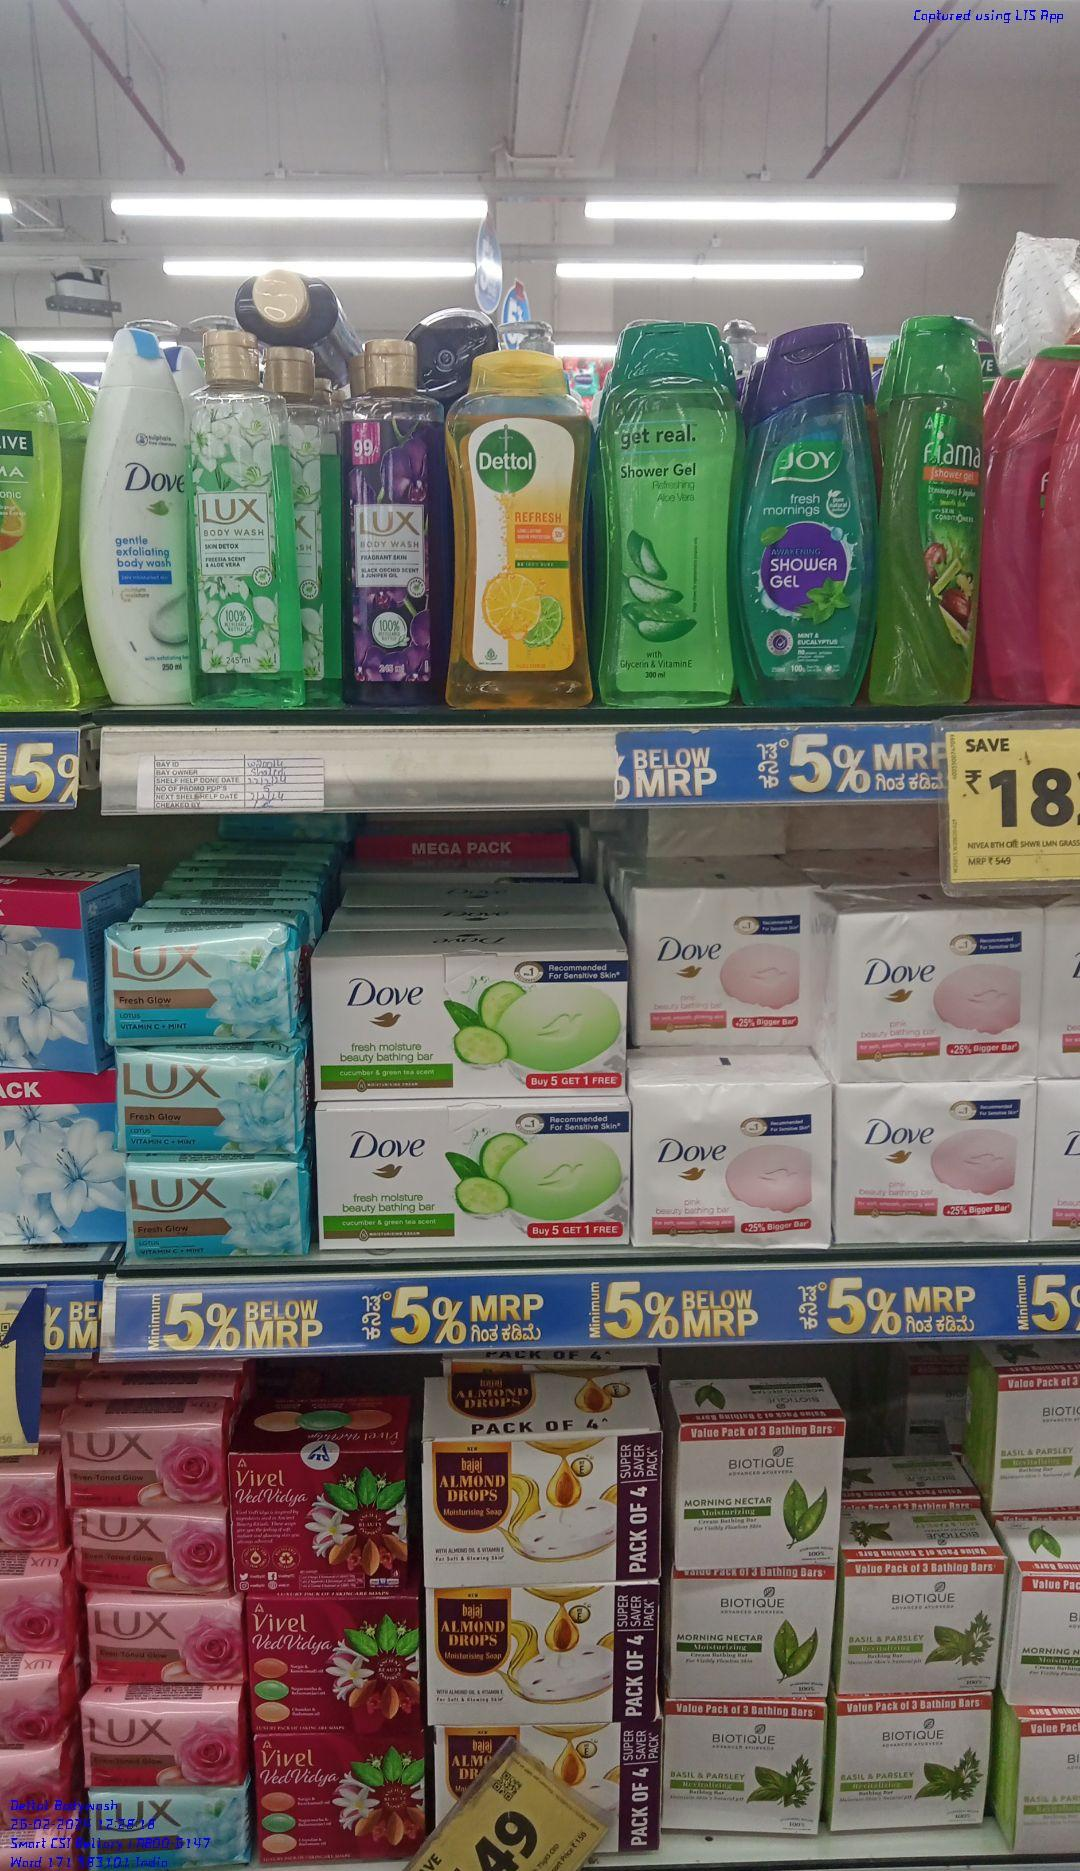Dettol_Bodywash_Refresh: (450, 346, 591, 716)
Dove_Gentle_Exfoliating_Body_Wash_250ML: (77, 316, 195, 709)
Fiama_Shower_Gel_Lemongrass_and_Jojoba_250ML: (873, 308, 1005, 713)
Lux_Black_Orchid_Scent_and_Juniper_Oil_Body_Wash_245ML: (333, 339, 447, 698)
Lux_Body_Wash_Skin_Detox_Freesia_Scent_and_Alove_Vera_245ML: (199, 321, 300, 709)
